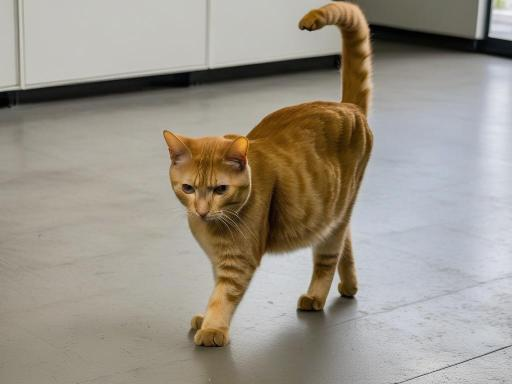cat_standing: (164, 2, 373, 346)
